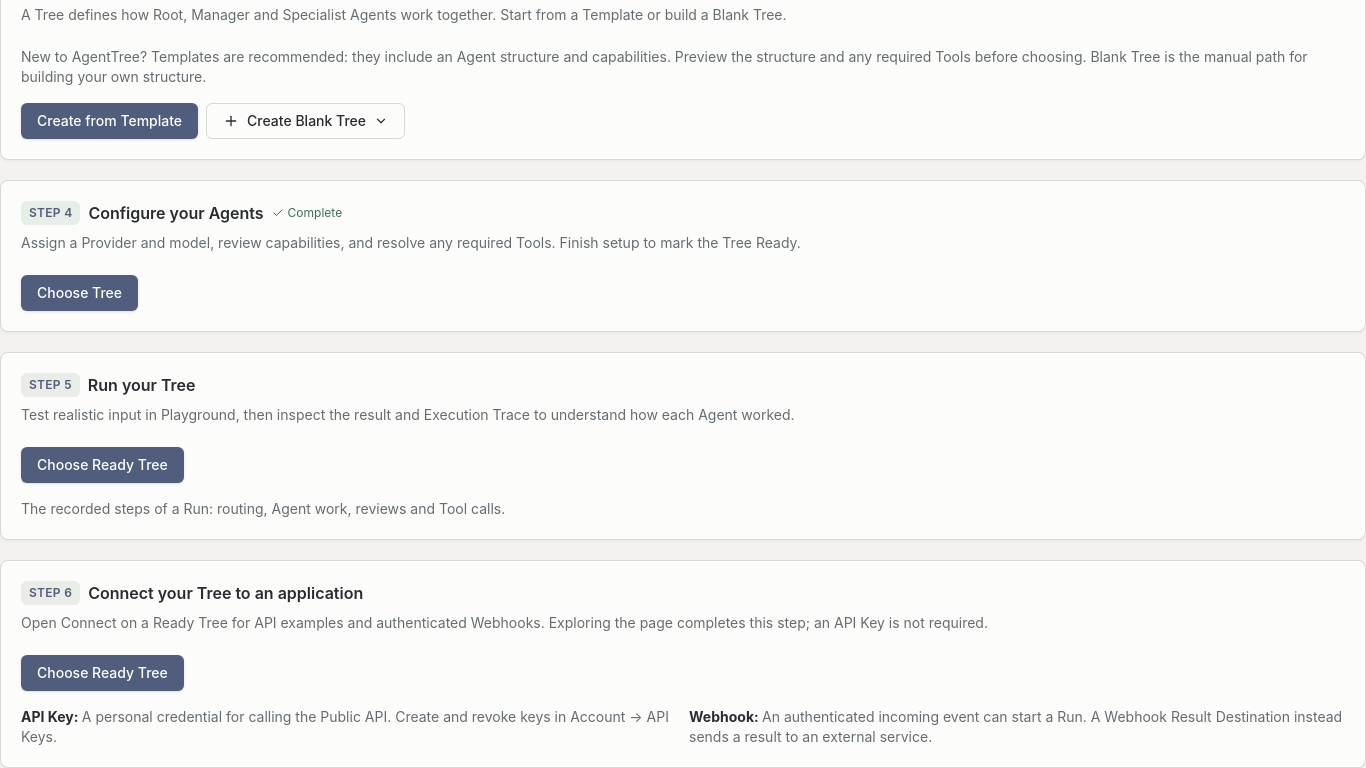
it: requires explicit multiple-Tree selection for Run your Tree
(page scrolled)
Click the button "Choose Ready Tree" below "Run your Tree" at (102, 465), box [21,447,184,483]
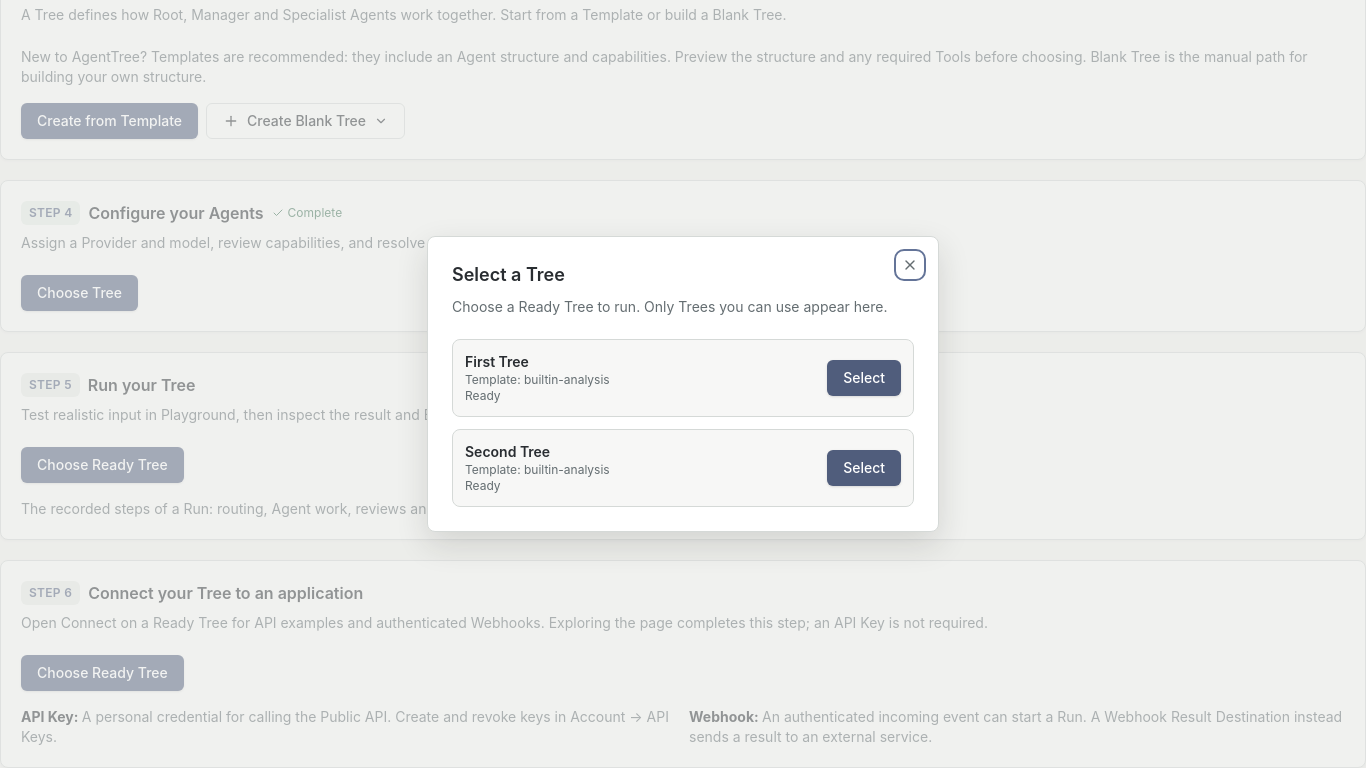
Expected: the heading "First Tree" is shown, [465,353,529,370]
Expected: the heading "Second Tree" is shown, [465,443,550,460]
